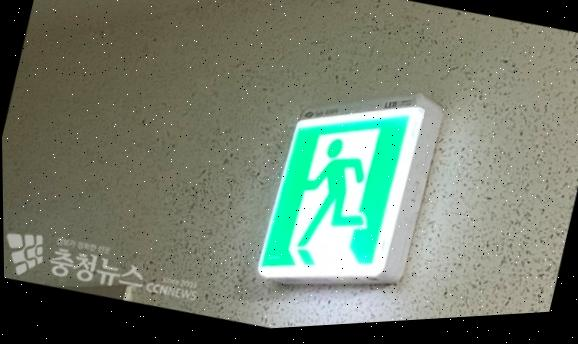emergency_exit: (257, 94, 444, 286)
